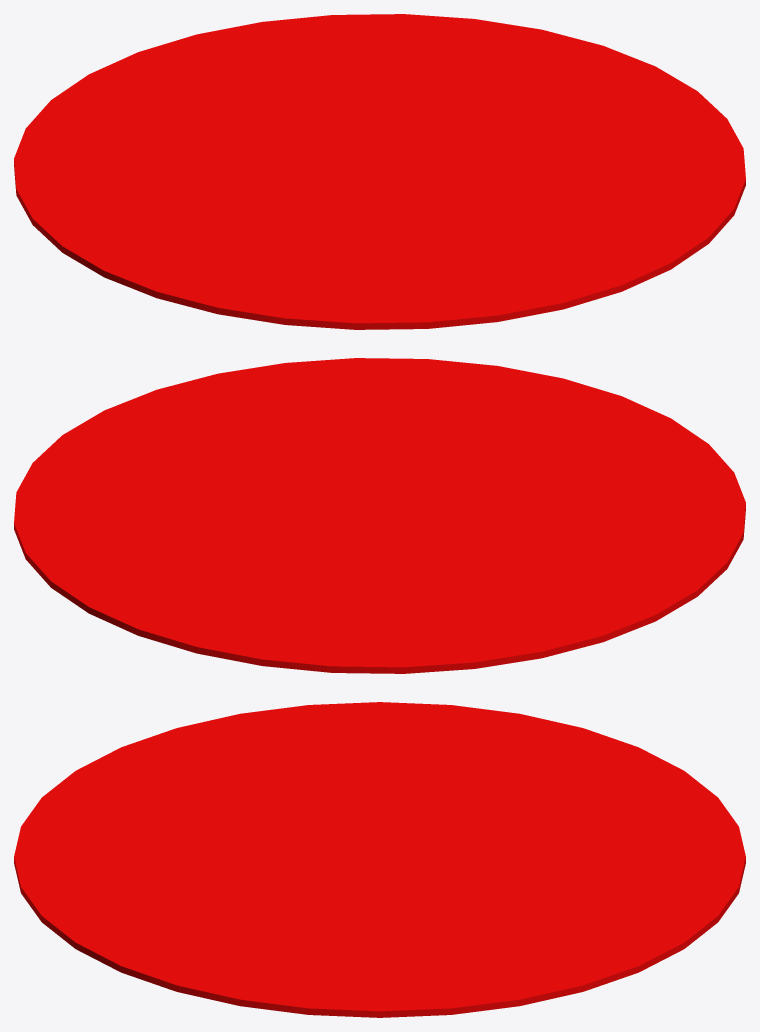
Rendered from rounded_slim.gltf.
3 renders of one model, top to bottom at view 1: azimuth 30°, elevation 25°; view 2: azimuth 150°, elevation 25°; view 3: azimuth 270°, elevation 25°, orthographic.
Parts seen in each view (by area): view 1: Circle.001; view 2: Circle.001; view 3: Circle.001.
Part boxes in pixels (x1=…): Circle.001: x1=14, y1=14, x2=745, y2=329; Circle.001: x1=14, y1=358, x2=745, y2=673; Circle.001: x1=14, y1=702, x2=745, y2=1017.
Size of the model in its own units: 7.23 by 0.0715 by 7.23.
